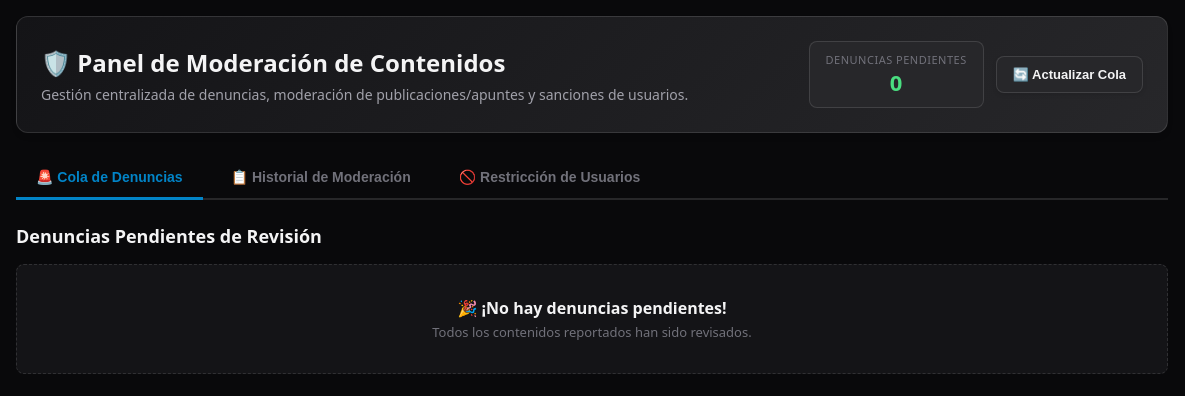
Test: Módulo de Moderador — pruebas unitarias › 3. actualiza el estado local del filtro por ID al escribir en el campo
Expected: the text "🎉 ¡No hay denuncias pendientes!" is shown, top-left (457, 297), bottom-right (727, 319)
Click the button "🚫 Restricción de Usuarios" at (550, 178), box top-left (439, 157), bottom-right (660, 200)
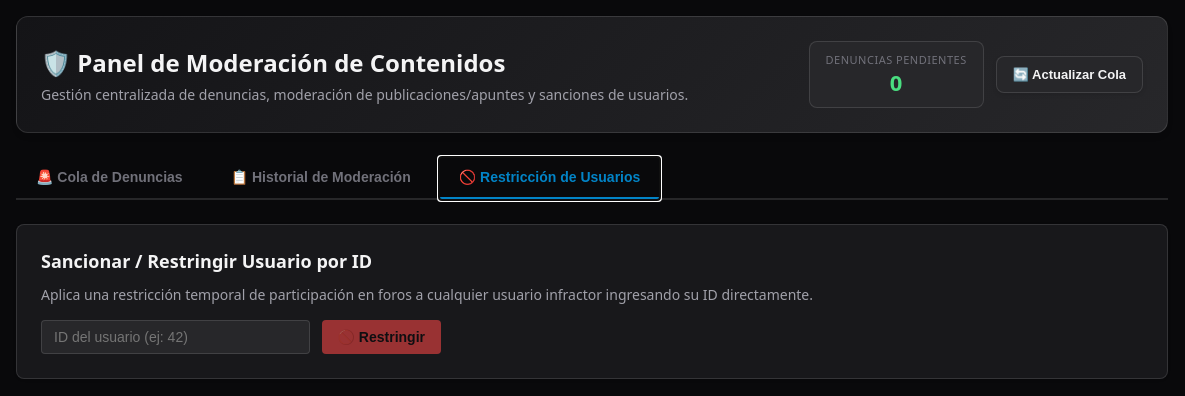
Type "42" into the number field with placeholder "ID del usuario (ej: 42)" at (175, 337), box top-left (41, 320), bottom-right (310, 354)
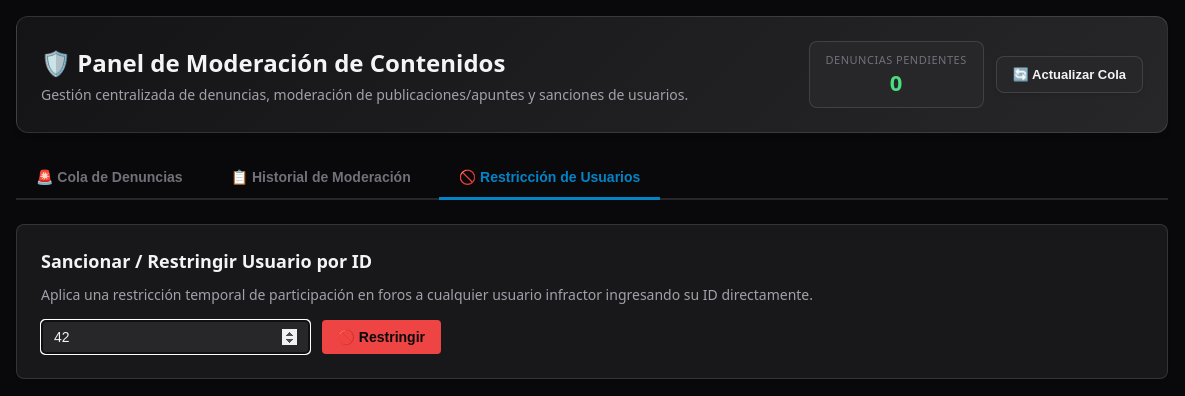
Expected: the button "🚫 Restringir" is enabled, top-left (322, 320), bottom-right (441, 354)
